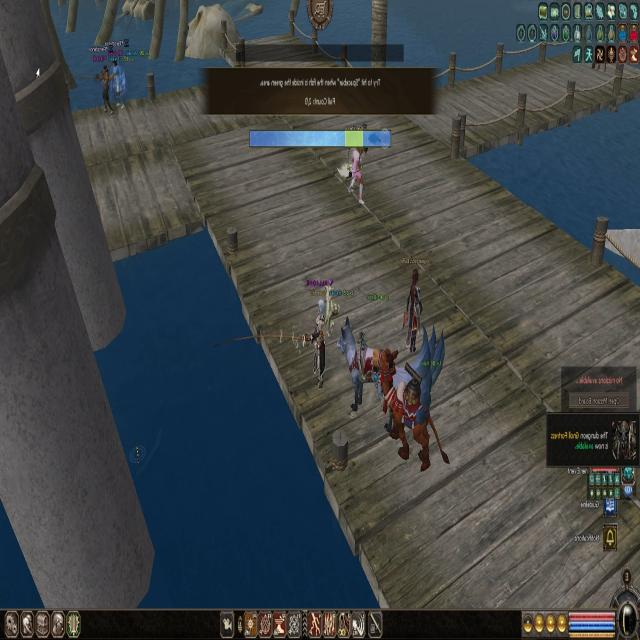box: (346, 129, 364, 148)
fishes: (367, 129, 382, 149)
